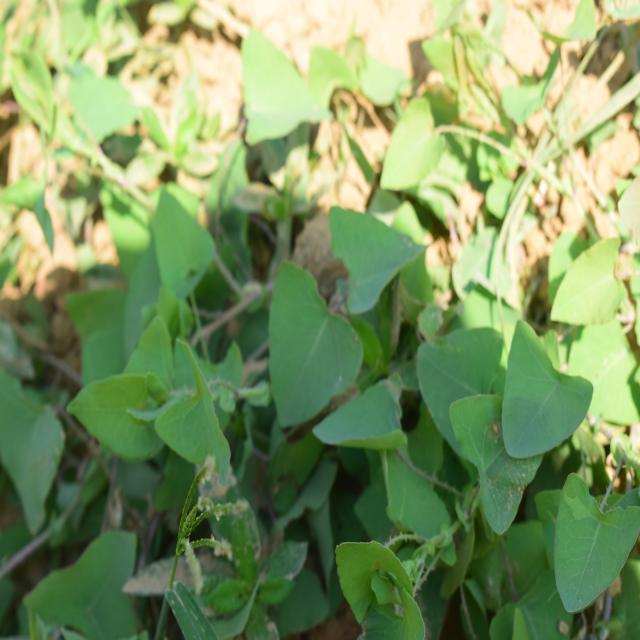Asiatic_Smartweed: (336, 338, 596, 640), (253, 194, 420, 439), (60, 312, 244, 470)
